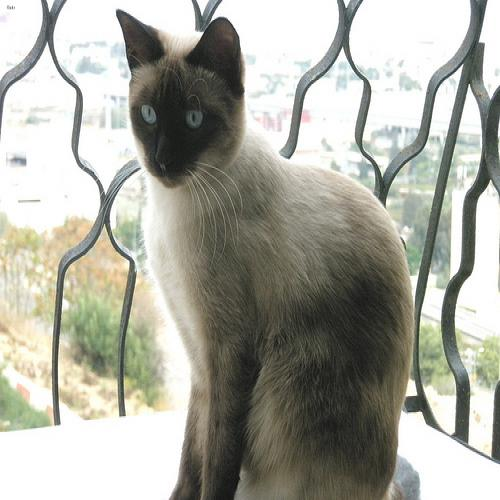siamese: (105, 1, 266, 200)
